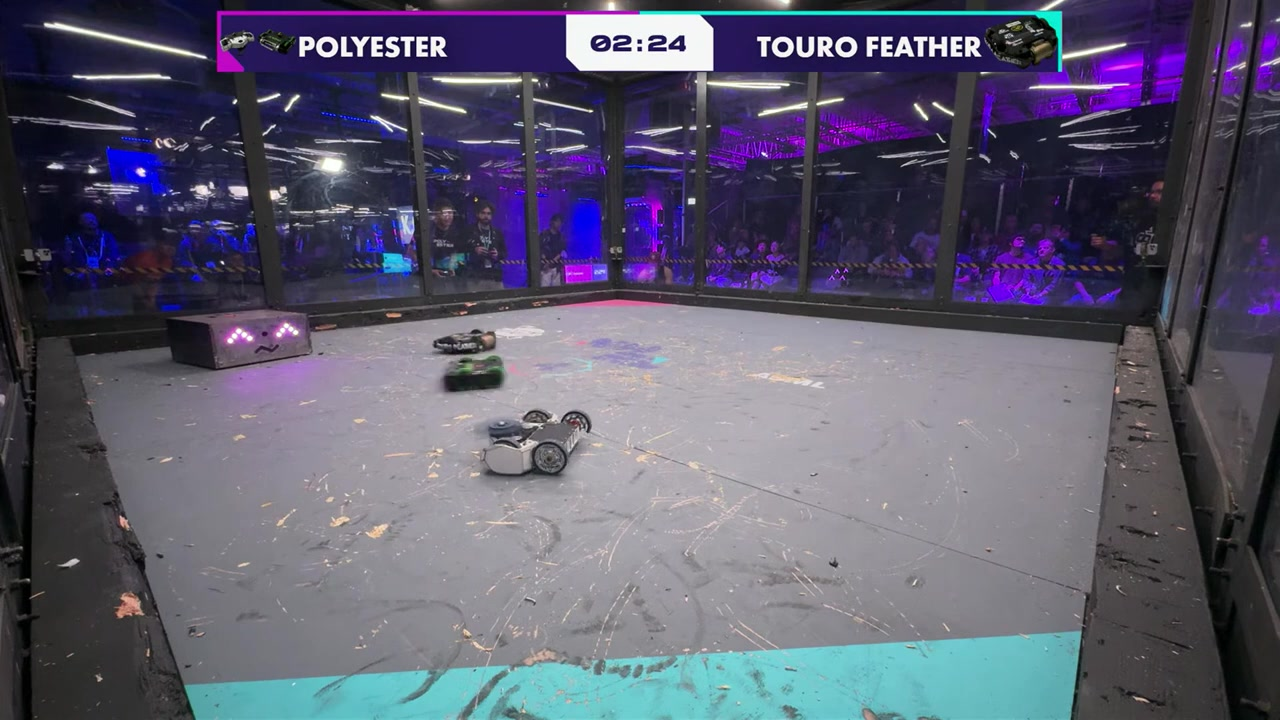combatbot: (484, 410, 591, 478), (446, 358, 503, 387), (434, 330, 496, 352)
housebot: (172, 310, 312, 368)
